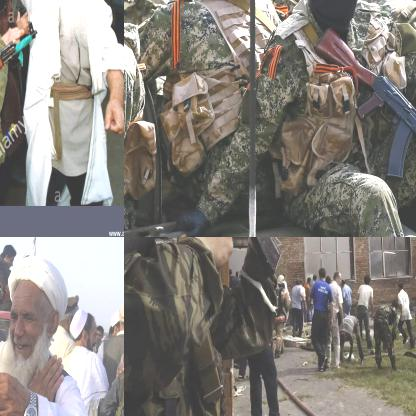rifle: (312, 24, 415, 236), (124, 237, 340, 270), (0, 20, 43, 120)
